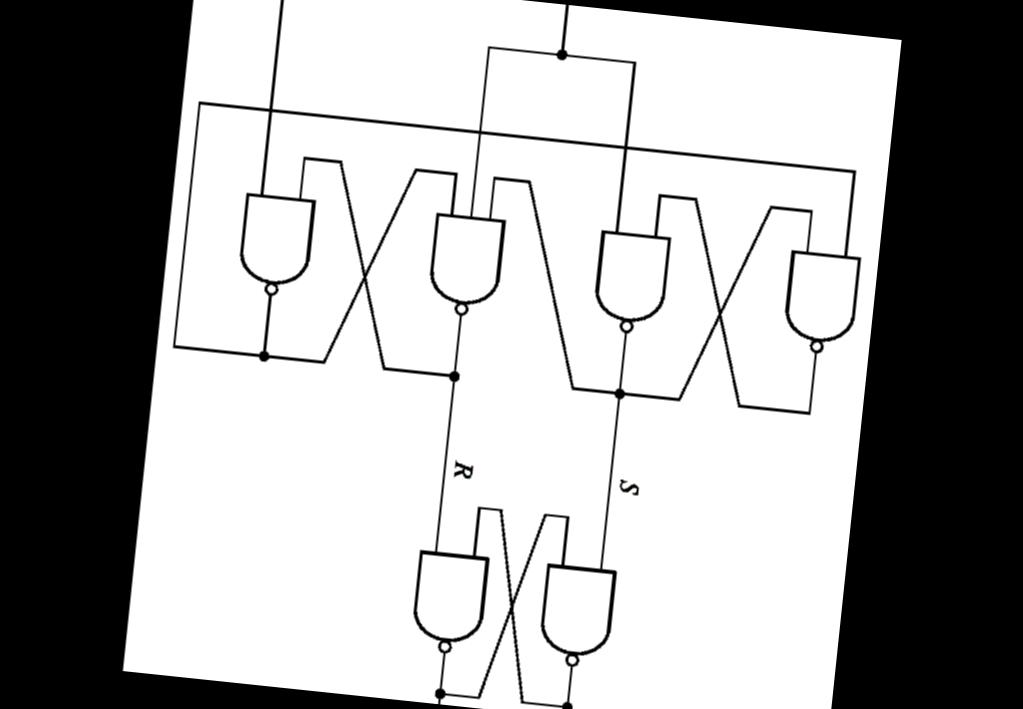nand: (575, 206, 688, 354), (222, 172, 327, 318), (414, 188, 516, 336), (394, 534, 500, 672), (769, 234, 872, 373), (524, 547, 628, 681)
